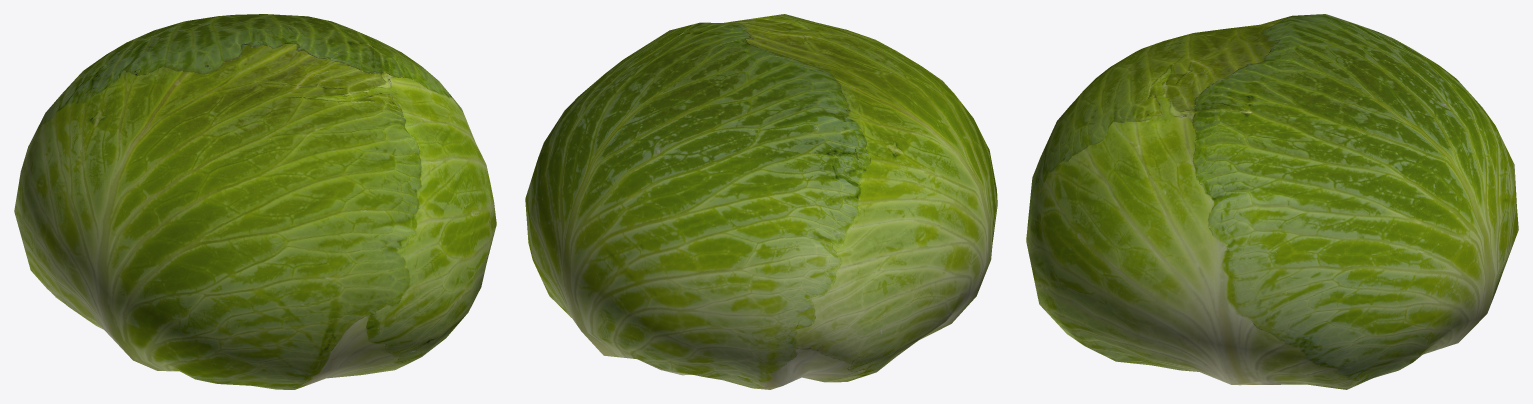
File: StockCabbage_Visual.fbx
3 views of the same model, side by side, from view 1: azimuth 30°, elevation 25°; view 2: azimuth 150°, elevation 25°; view 3: azimuth 270°, elevation 25° (orthographic).
Parts seen in each view (by area): view 1: StockCabbage; view 2: StockCabbage; view 3: StockCabbage.
Part boxes in pixels (x1,y1,x2,y2): StockCabbage: (14,14,496,389); StockCabbage: (525,14,997,389); StockCabbage: (1026,14,1518,389).
Bounding box in the file's own units: 16.78 × 12.2 × 17.41.
1 material, 1 textured.
